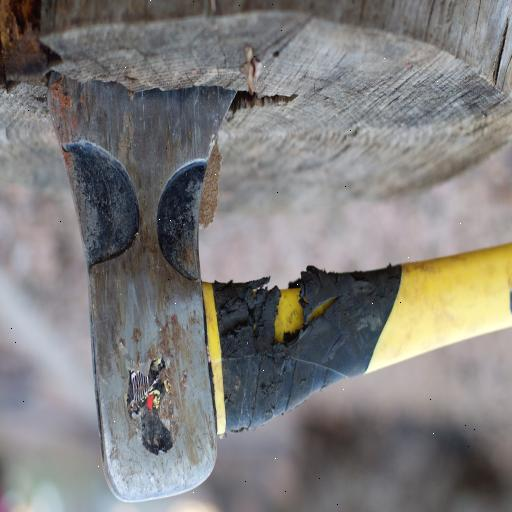Axe: (46, 72, 512, 502)
